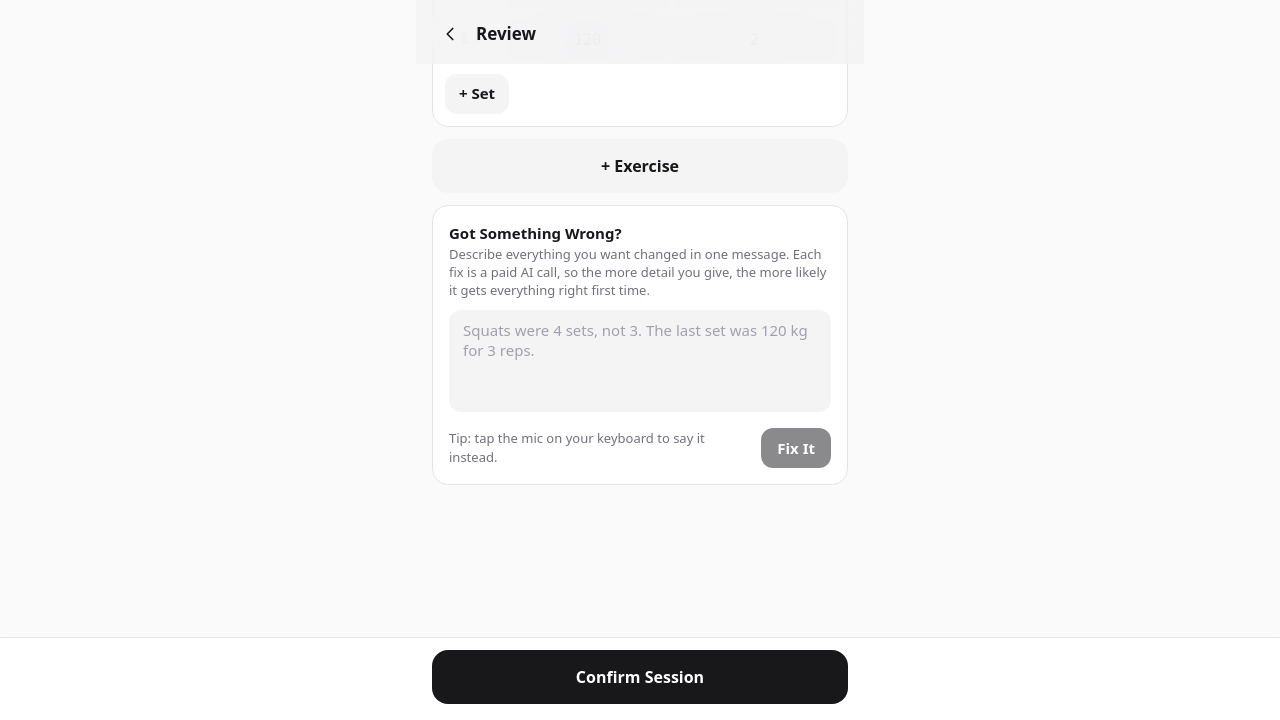
Scenario: Review › says in the fix box why a fix failed, and keeps the message
The width and height of the screenshot is (1280, 720).
(page scrolled)
Type "Add two warm-up sets" into the text box named "What to Change" at (640, 361), box [449,310,831,412]
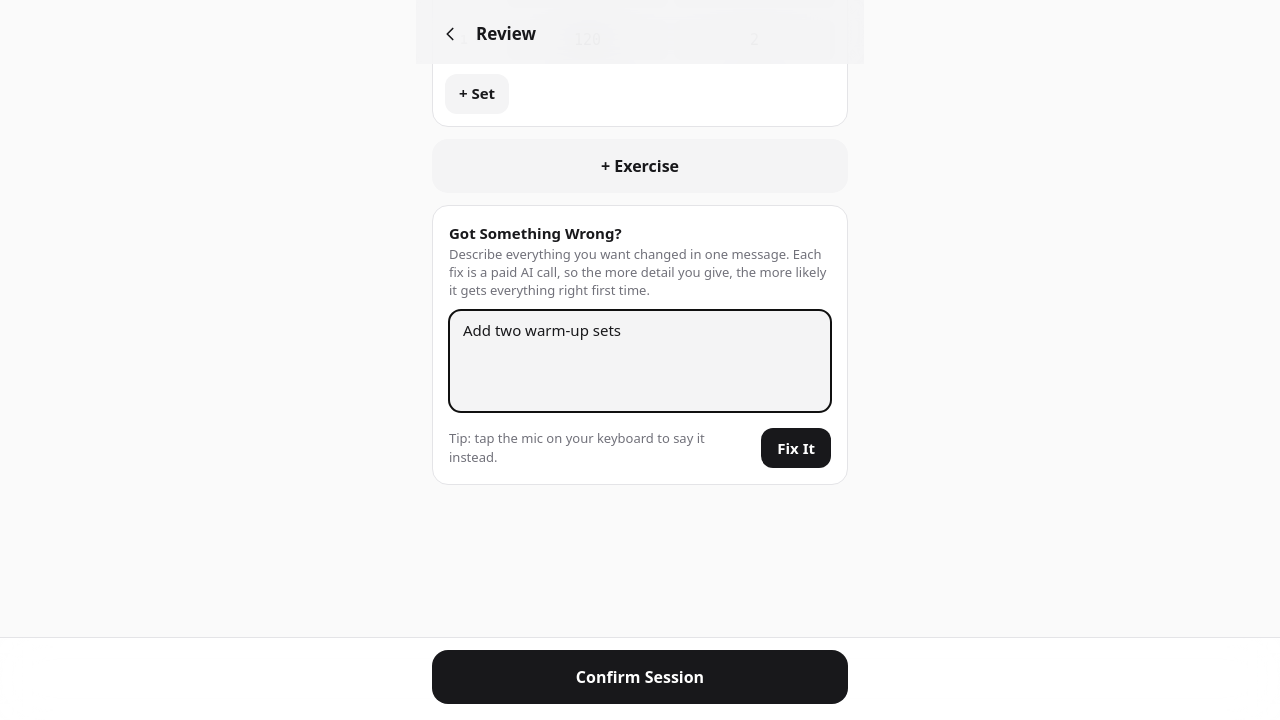
Click the button "Fix It" at (796, 448), box [761,428,831,468]
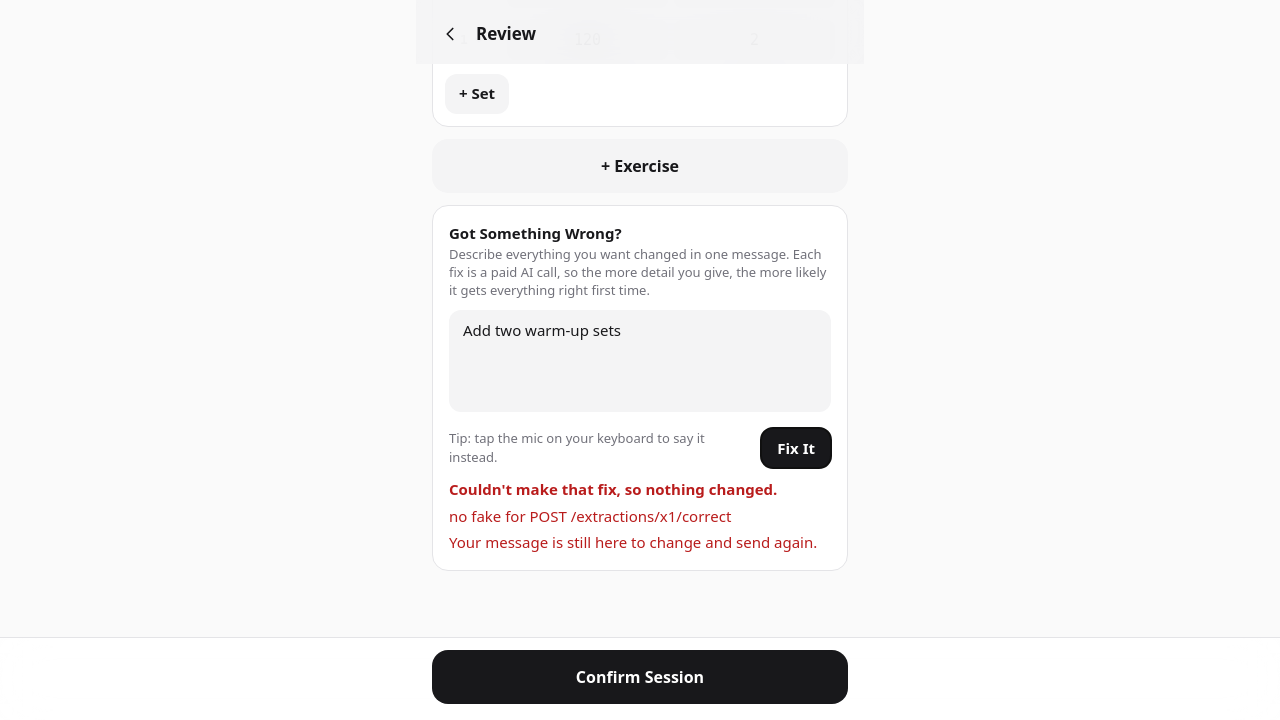
Check: the message shows "Couldn't make that fix, so nothing changed.", box [449,479,777,499]
Check: the message shows "no fake for POST /extractions/x1/correct", box [449,506,731,526]
Type " at 40 kg" into the text box named "What to Change" at (640, 361), box [449,310,831,412]
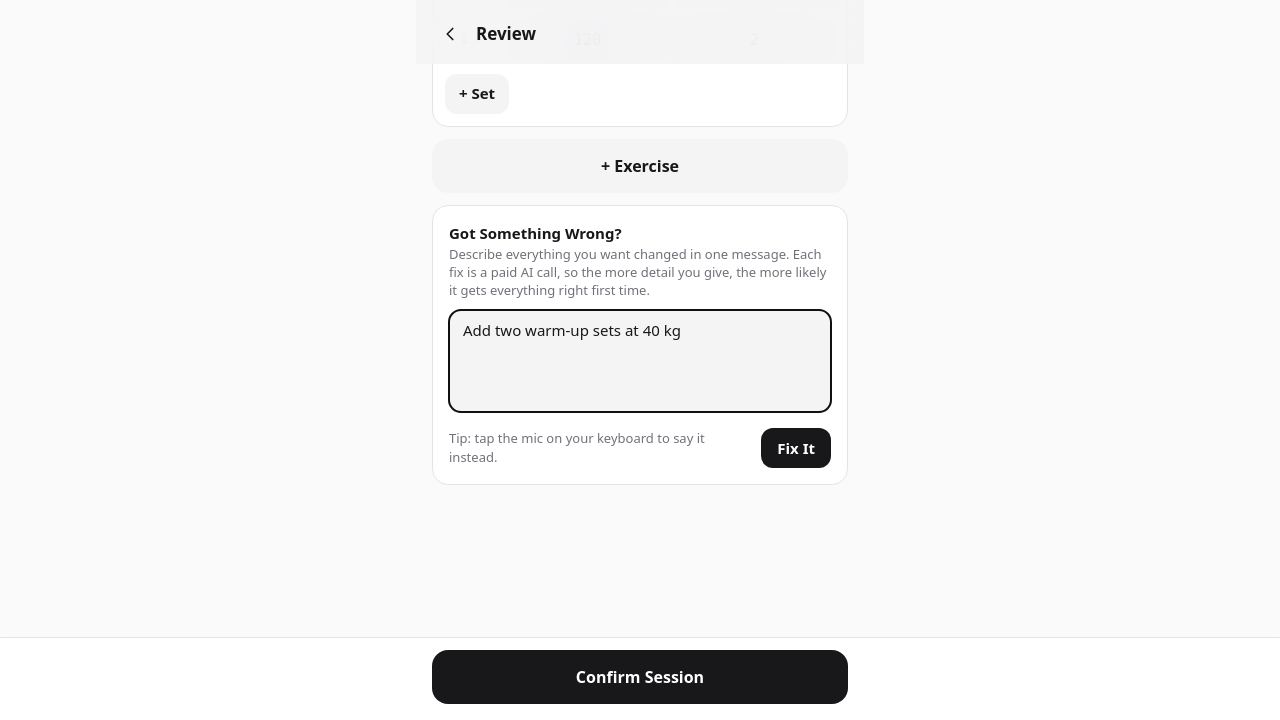
Check: the message is gone
